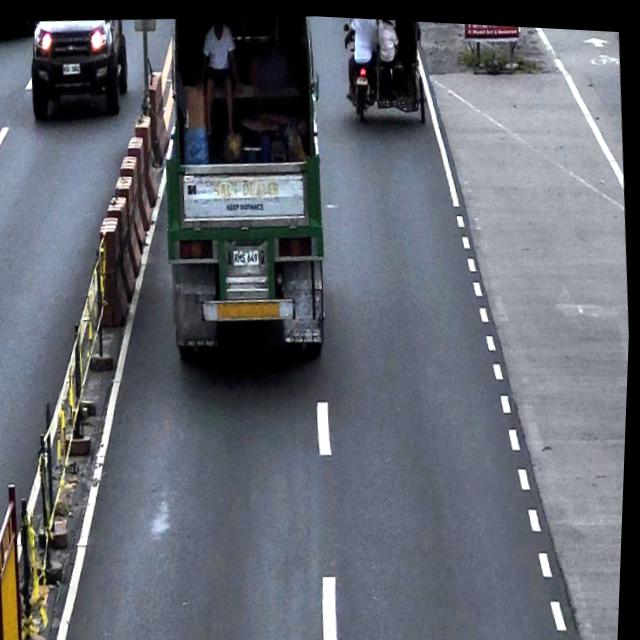Car: (26, 14, 132, 124)
License-Plate: (234, 245, 261, 264), (61, 60, 81, 75), (356, 71, 368, 83)
Tricycle: (339, 14, 429, 124)
Truck: (148, 6, 339, 361)
